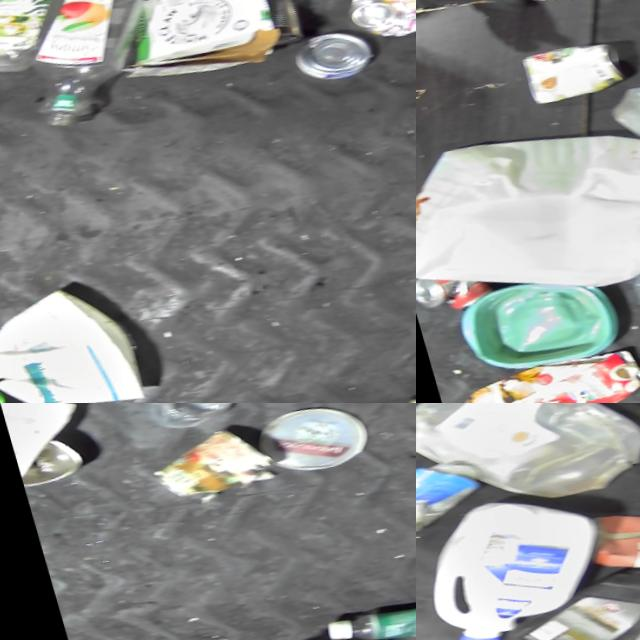can: (139, 407, 273, 515), (284, 5, 381, 85), (518, 31, 615, 107), (416, 444, 487, 542), (416, 264, 492, 315), (343, 0, 416, 36)
milk_jug: (416, 77, 640, 335), (416, 466, 624, 640), (416, 403, 640, 527), (0, 403, 85, 496)
plastic_bottle: (2, 0, 157, 138), (312, 567, 416, 640), (0, 0, 81, 87)
